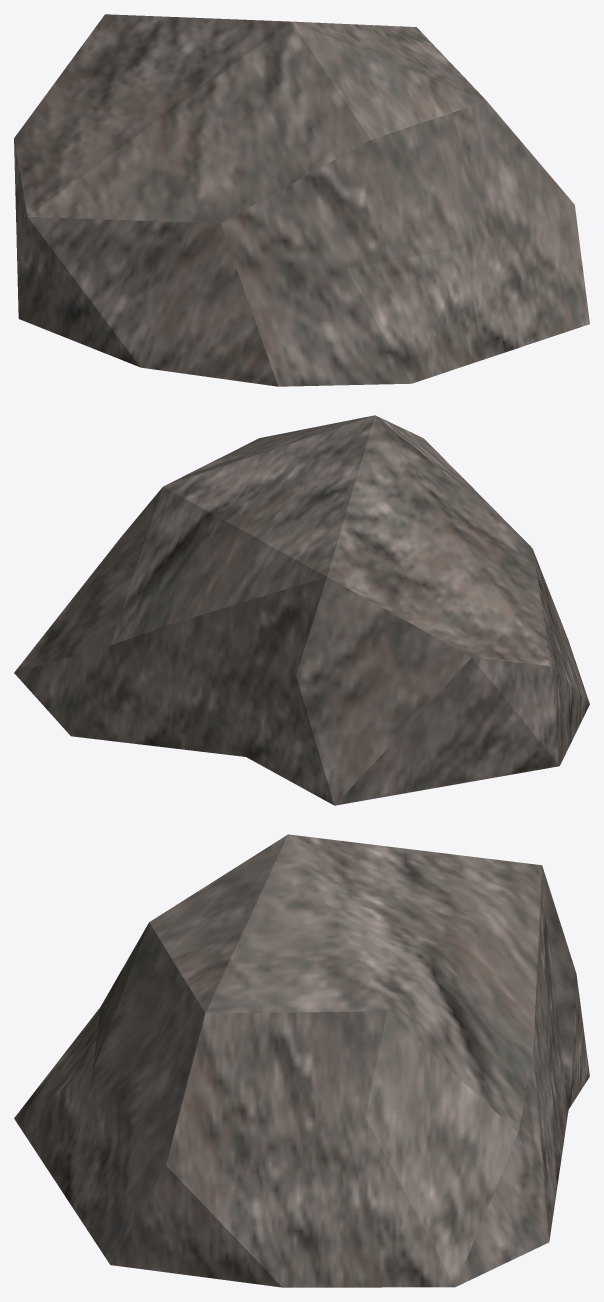
Rendered from rockMedGray.fbx.
3 views of the same model, one above another, from view 1: azimuth 30°, elevation 25°; view 2: azimuth 150°, elevation 25°; view 3: azimuth 270°, elevation 25° (orthographic). The views are drawn at different scales.
Visible parts, largest first — view 1: rockMedium3; view 2: rockMedium3; view 3: rockMedium3.
Part boxes in pixels (<box>): rockMedium3: <box>14,14,589,386</box>; rockMedium3: <box>14,415,589,805</box>; rockMedium3: <box>14,834,589,1287</box>.
Bounding box in the file's own units: 6.35 × 5.63 × 3.42.
Materials: 1 (1 with a texture image).
